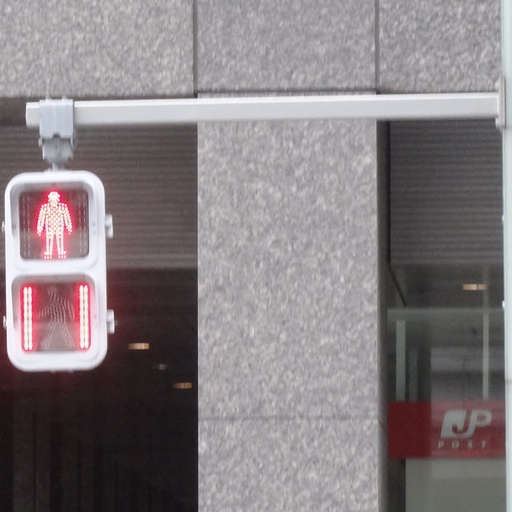Pedestrian_Signal_Red: (2, 170, 112, 361)
